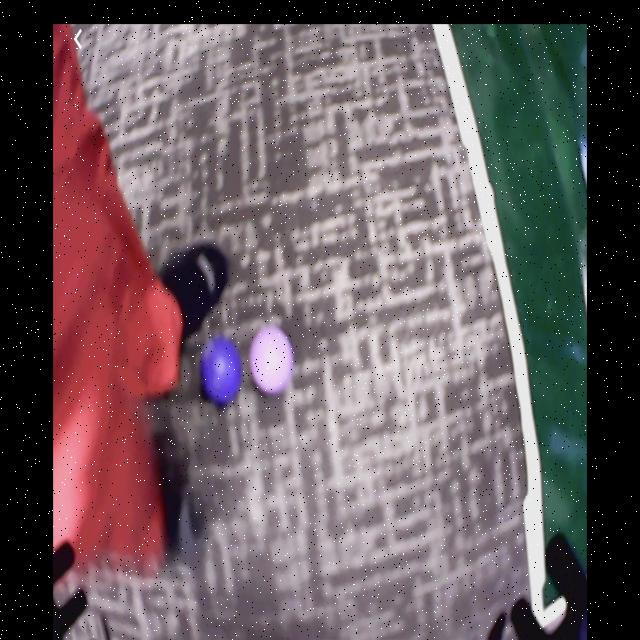ball: (252, 330, 295, 395), (204, 341, 242, 400)
